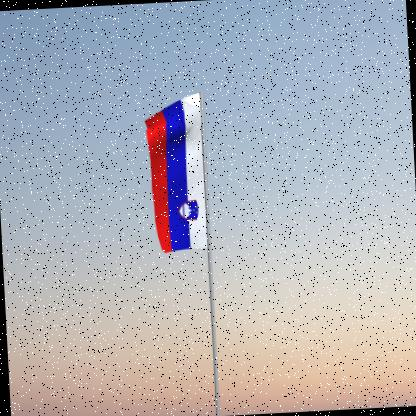si: (144, 93, 209, 255)
